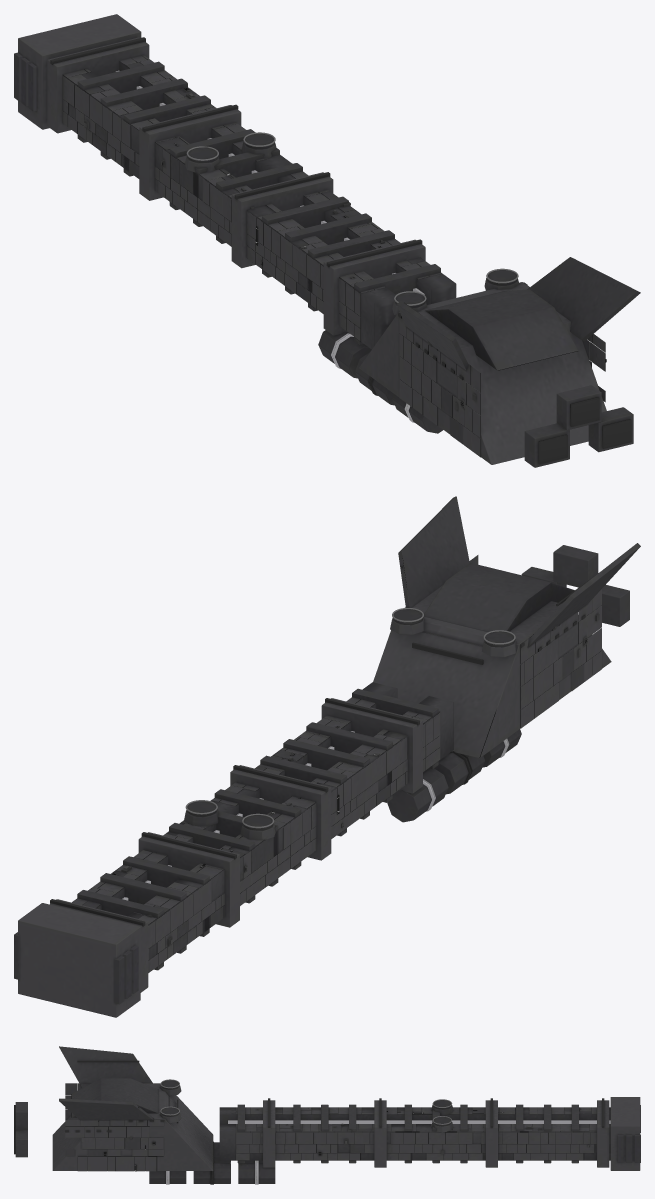
Rendered from null_pursuer_hero.glb.
3 renders of one model, top to bottom at view 1: azimuth 30°, elevation 25°; view 2: azimuth 150°, elevation 25°; view 3: azimuth 270°, elevation 25°, orthographic. The views are drawn at different scales.
Parts seen in each view (by area): view 1: HullBaked; view 2: HullBaked; view 3: HullBaked.
Boxes of the visible parts, x1,y1,x2,y2 form: HullBaked: (14, 14, 640, 467); HullBaked: (14, 496, 640, 1017); HullBaked: (14, 1046, 640, 1184).
Size of the model in its own units: 29.84 by 25.35 by 142.
Materials: 1 (1 with a texture image).
